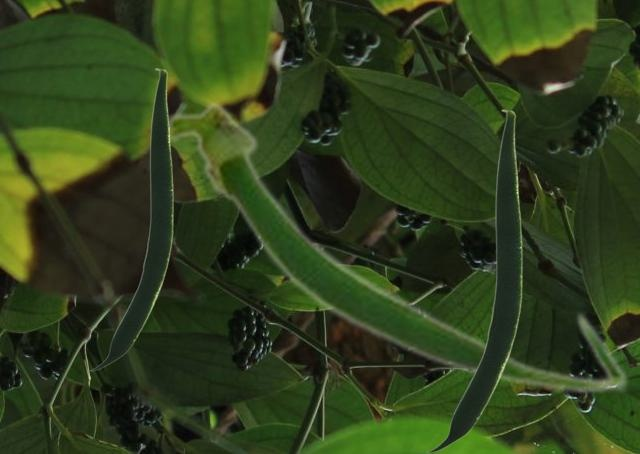french_bean: (169, 98, 629, 395), (426, 109, 521, 452), (89, 68, 172, 370)
